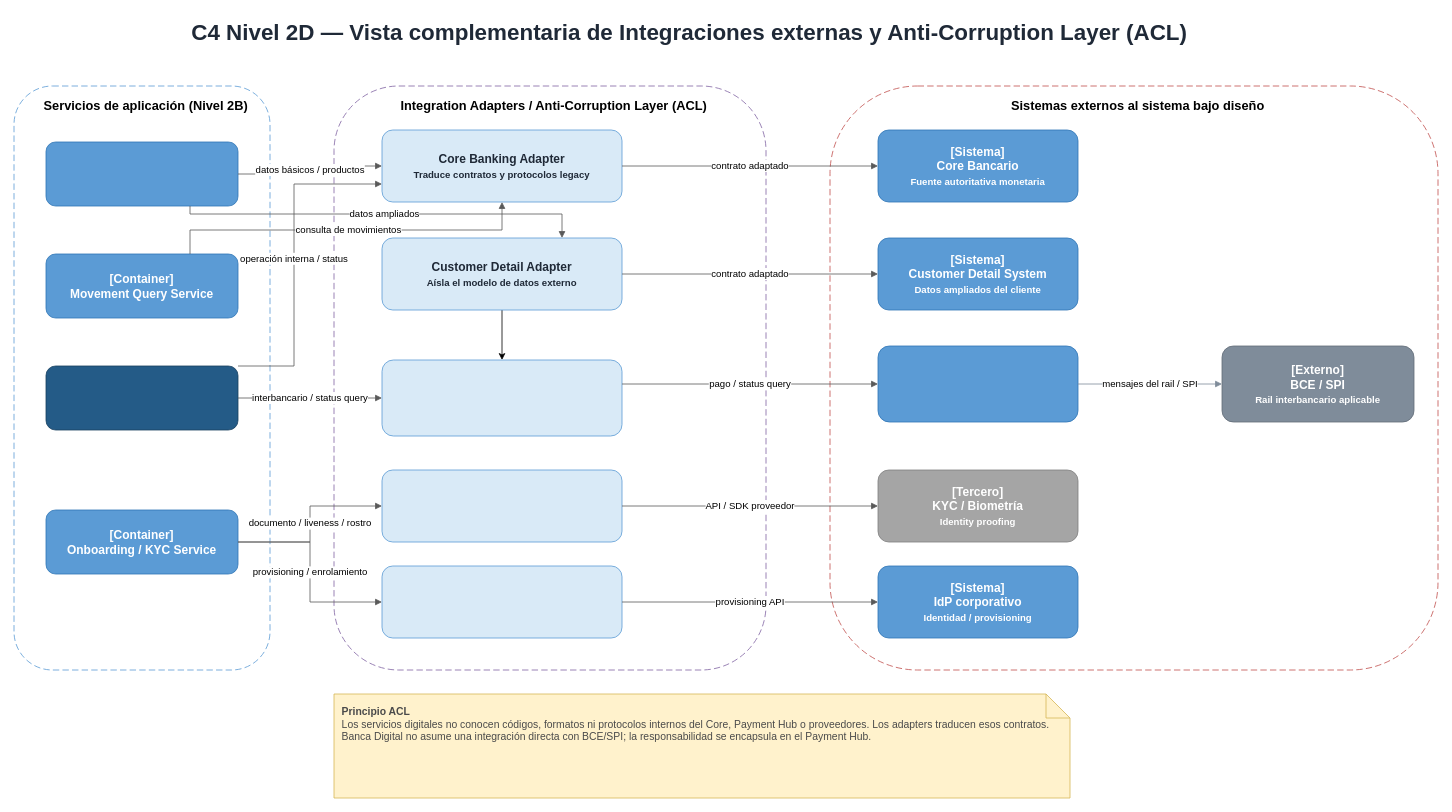
The diagram is 1452 pixels wide and 812 high, and some of its shapes have lost their labels. The centre of each missing label's shape, as x and y in pixels:
"[Container] Customer Query Service" goes at point (141, 173).
"[Container] Transaction Service" goes at point (141, 397).
"[Sistema] Payment Hub Pagos / transferencias interbancarias" goes at point (977, 383).
"Identity Provisioning Adapter Provisioning / enrolamiento de identidad" goes at point (501, 601).
"KYC / Biometric Adapter Documento, liveness y verificación facial" goes at point (501, 505).
"Payment Hub Adapter Referencia estable, status query y traducción de mensajes" goes at point (501, 397).
